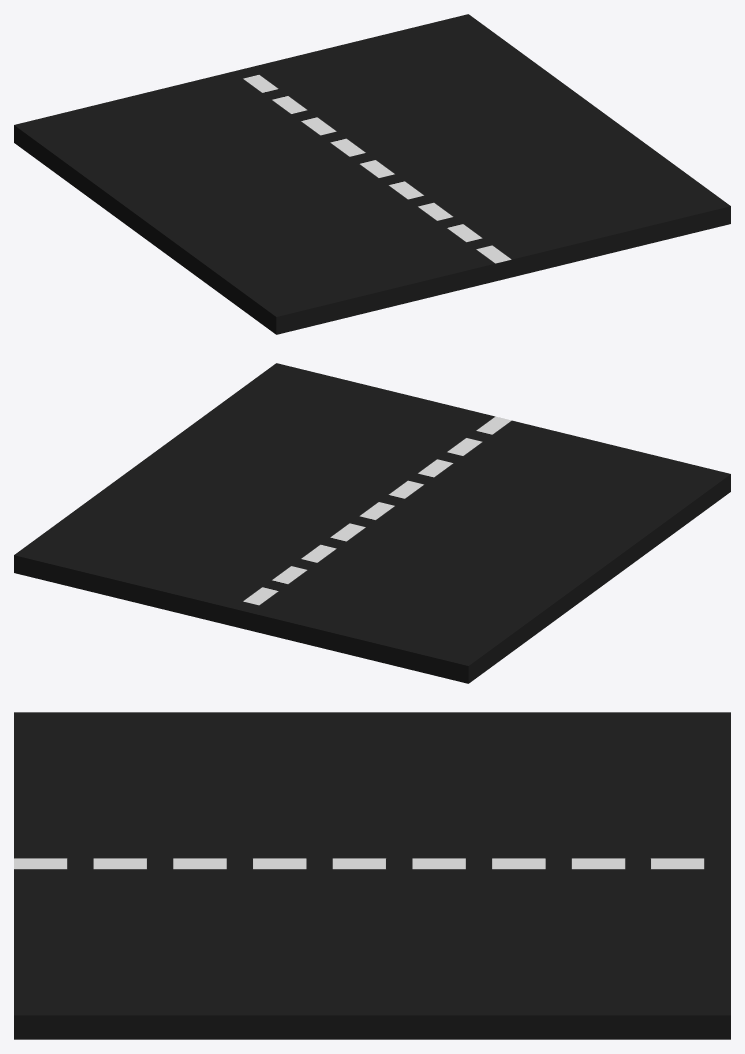
Rendered from road_8x8_00.glb.
3 views of the same model, one above another, from view 1: azimuth 30°, elevation 25°; view 2: azimuth 150°, elevation 25°; view 3: azimuth 270°, elevation 25° (orthographic). The views are drawn at different scales.
Parts seen in each view (by area): view 1: road_8x8; view 2: road_8x8; view 3: road_8x8.
Boxes of the visible parts, box(x1,y1,x2,y2) form: road_8x8: box(14, 14, 730, 334); road_8x8: box(14, 363, 730, 683); road_8x8: box(14, 712, 730, 1039).
Size of what is drawn, in the model's own units: 8 by 0.3 by 8.
1 material, 1 textured.
